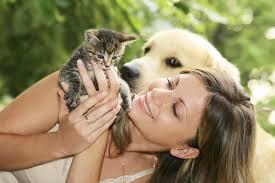Non_Gorille: (23, 10, 269, 183)
